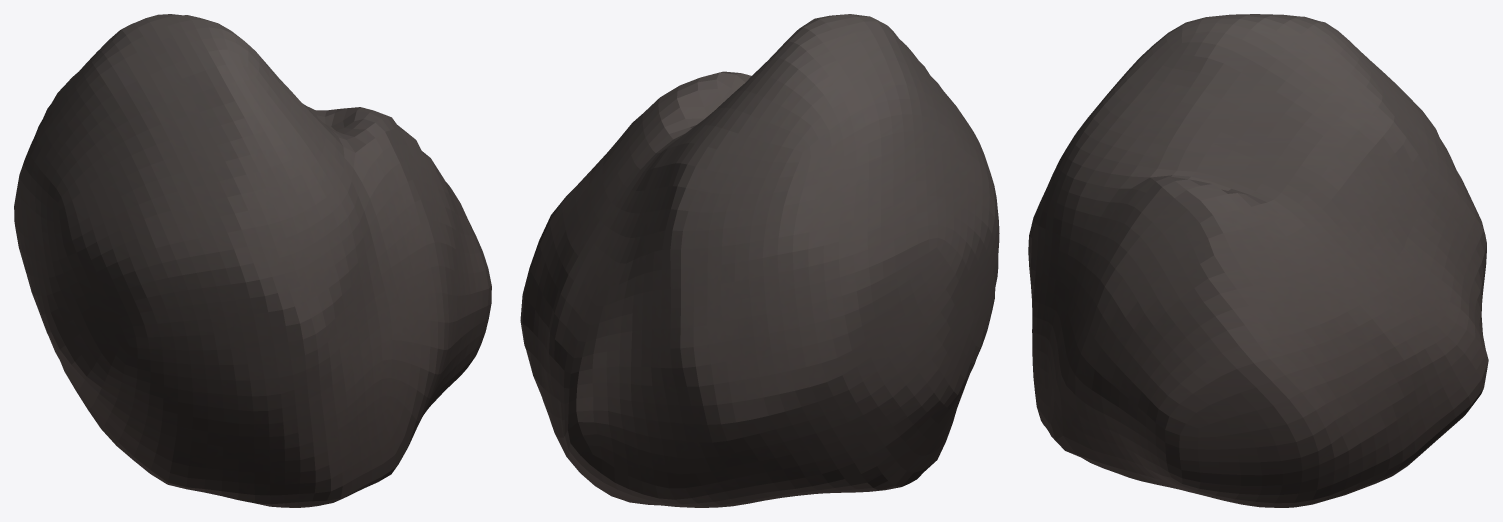
File: Rock15_Textured.fbx
3 renders of one model, left to right at view 1: azimuth 30°, elevation 25°; view 2: azimuth 150°, elevation 25°; view 3: azimuth 270°, elevation 25°, orthographic. The views are drawn at different scales.
Visible parts, largest first — view 1: GameJam_Rock2_ModelZbrush:Group52282; view 2: GameJam_Rock2_ModelZbrush:Group52282; view 3: GameJam_Rock2_ModelZbrush:Group52282.
Boxes of the visible parts, left/top/right/bottom form: GameJam_Rock2_ModelZbrush:Group52282: left=14, top=14, right=491, bottom=507; GameJam_Rock2_ModelZbrush:Group52282: left=520, top=14, right=999, bottom=507; GameJam_Rock2_ModelZbrush:Group52282: left=1028, top=14, right=1488, bottom=507.
Bounding box in the file's own units: 1.68 × 1.8 × 1.79.
Materials: 1 (1 with a texture image).
